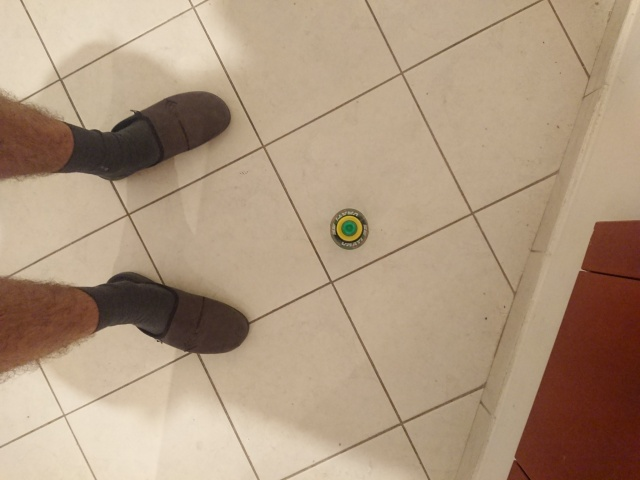Vindi Iso Sport Lemon-Grapefruit 500mL: (328, 206, 371, 252)
